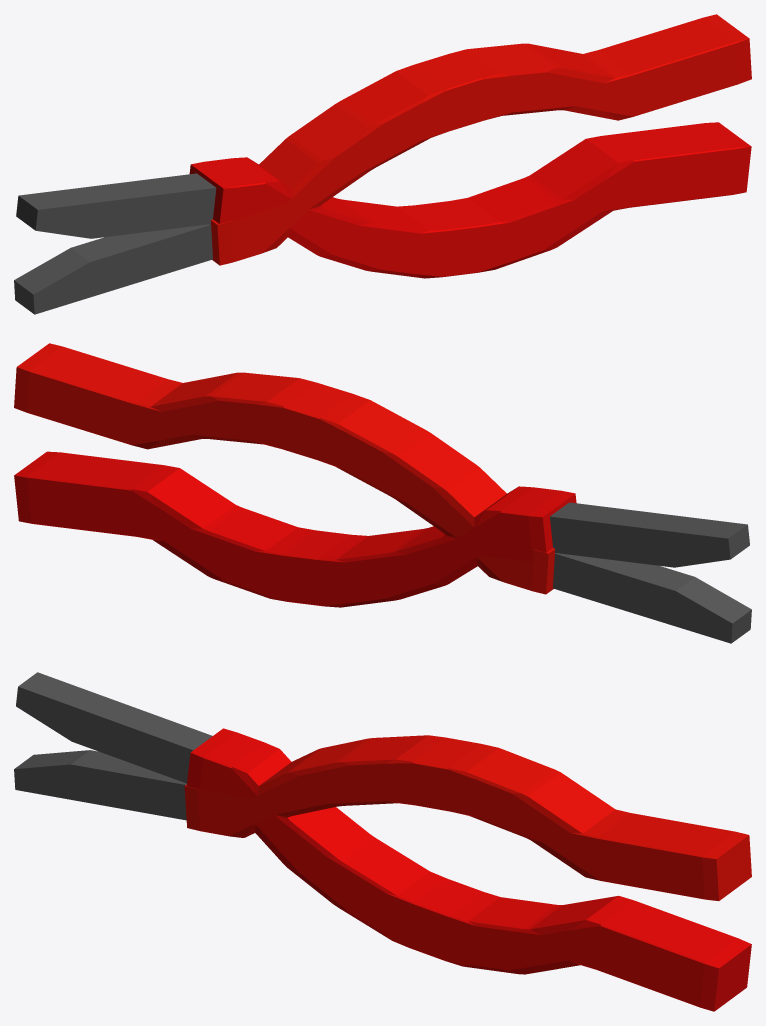
Rendered from CLAMPS_FOR_ELECTRONICS.glb.
3 renders of one model, top to bottom at view 1: azimuth 30°, elevation 25°; view 2: azimuth 150°, elevation 25°; view 3: azimuth 330°, elevation 25°, orthographic.
Visible parts, largest first — view 1: RIGHT_PLIER_HANDLE, LEFT_PLIER_HANDLE; view 2: LEFT_PLIER_HANDLE, RIGHT_PLIER_HANDLE; view 3: LEFT_PLIER_HANDLE, RIGHT_PLIER_HANDLE.
Part boxes in pixels (box(x1,y1,x2,y2)): RIGHT_PLIER_HANDLE: box(14, 14, 751, 314); LEFT_PLIER_HANDLE: box(16, 122, 751, 278); LEFT_PLIER_HANDLE: box(14, 451, 749, 607); RIGHT_PLIER_HANDLE: box(14, 343, 751, 643); LEFT_PLIER_HANDLE: box(16, 672, 751, 1011); RIGHT_PLIER_HANDLE: box(14, 735, 751, 900).
Size of the model in its own units: 0.6708 by 0.1764 by 0.0565.
